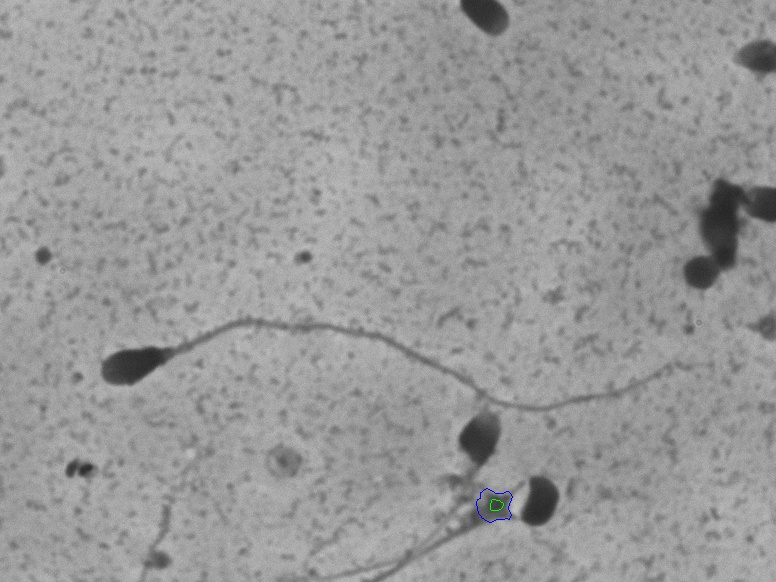Abnormal: (88, 254, 695, 416)
